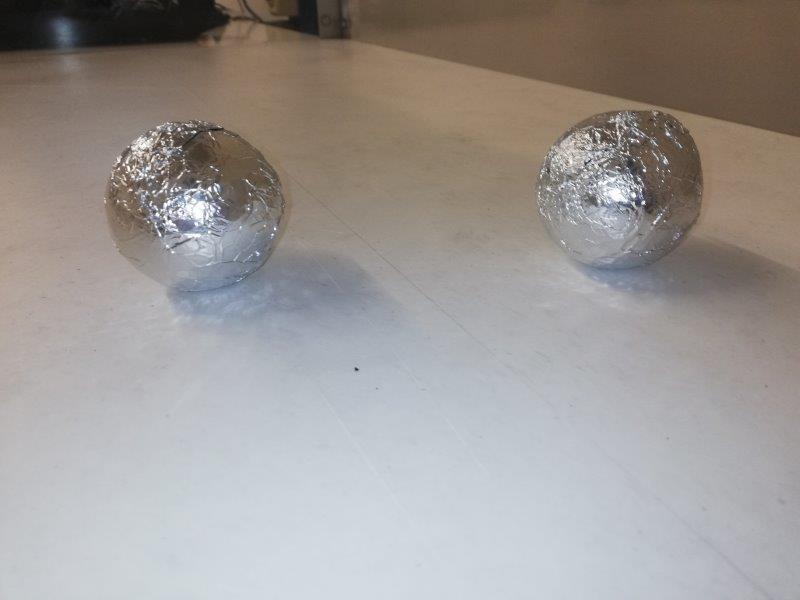bianca: (104, 119, 287, 290), (537, 109, 703, 269)
